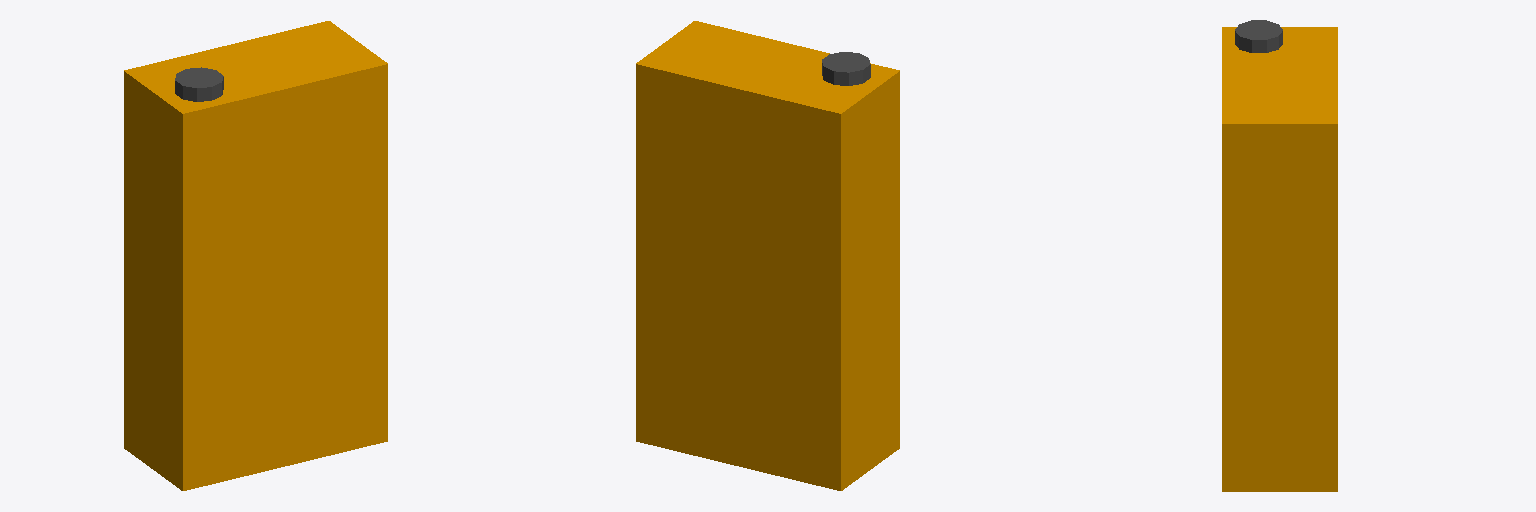
robot.urdf — milk:
<robot name="milk"
		   xmlns:sensor="http://playerstage.sourceforge.net/gazebo/xmlschema/#sensor"
       xmlns:controller="http://playerstage.sourceforge.net/gazebo/xmlschema/#controller"
       xmlns:interface="http://playerstage.sourceforge.net/gazebo/xmlschema/#interface">
	<link name ="milk">
		<inertial>
			<origin rpy="0 0 0" xyz="0 0 0"/>
			<mass value="0.75"/>
			<inertia ixx="0.002689" ixy="0" ixz="0" iyy="0.002508" iyz="0" izz="0.000197"/>
		</inertial>
		<visual>
			<origin rpy="0 0 0" xyz="0 0 0"/>
			<geometry>
				<mesh filename="package://cvg_sim_gazebo/Media/models/milk.dae"/>
			</geometry>
		</visual>
		<collision>
			<origin rpy="0 0 0" xyz="0 0 0.009"/>
			<geometry>
        <box size="0.110 0.055 0.2"/> <!-- taken from blender model -->
			</geometry>
		</collision>
	</link>
</robot>

--- What the picture shows (computed from the rendered views, not written in the file) ---
Views: 3 orthographic renders of the robot side by side, from view 1: azimuth 30°, elevation 25°; view 2: azimuth 150°, elevation 25°; view 3: azimuth 270°, elevation 25°.
Model milk with 1 links and 0 joints (none), rooted at milk, posed every joint at zero.
Links seen in each view (by area): view 1: milk; view 2: milk; view 3: milk.
Link boxes in pixels (x1,y1,x2,y2): milk: [124, 21, 387, 490]; milk: [636, 21, 899, 490]; milk: [1222, 20, 1337, 491].
Size in the robot's own frame: 0.11 by 0.055 by 0.2 metres.
1 mesh visuals loaded from 1 distinct referenced files (1 Collada DAE).